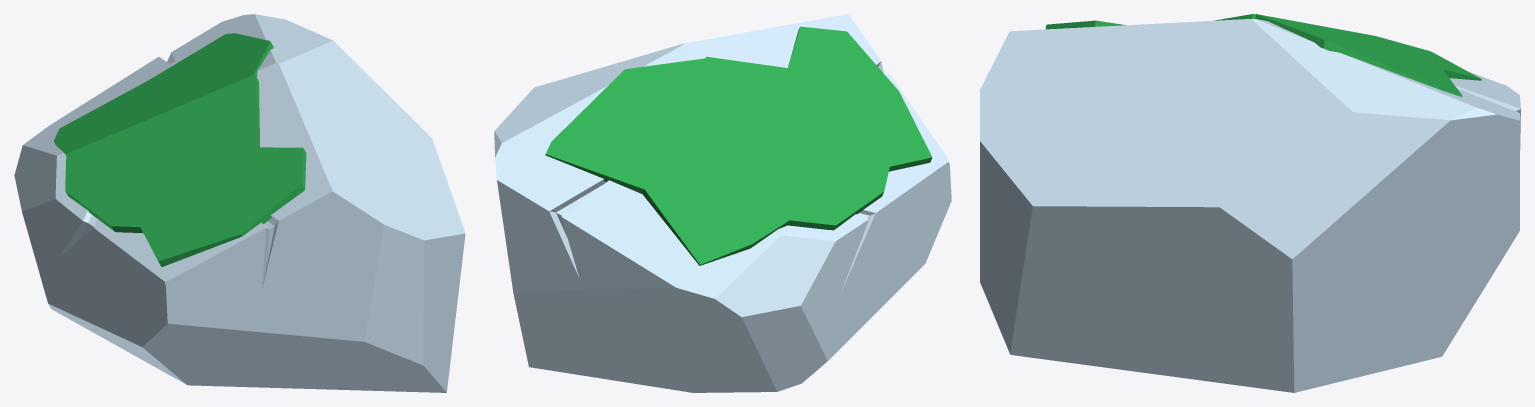
File: Rock 2.fbx
3 views of the same model, side by side, from view 1: azimuth 30°, elevation 25°; view 2: azimuth 150°, elevation 25°; view 3: azimuth 270°, elevation 25° (orthographic). The views are drawn at different scales.
Parts seen in each view (by area): view 1: Rock 2; view 2: Rock 2; view 3: Rock 2.
Part boxes in pixels (x1=…): Rock 2: x1=14, y1=14, x2=465, y2=392; Rock 2: x1=494, y1=14, x2=951, y2=392; Rock 2: x1=980, y1=14, x2=1520, y2=392.
Size of the model in its own units: 350 by 264 by 428.
